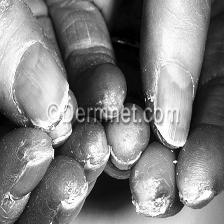Non-Cancerous Skin Condition: (20, 80, 108, 208), (131, 166, 177, 224), (184, 167, 218, 211)
